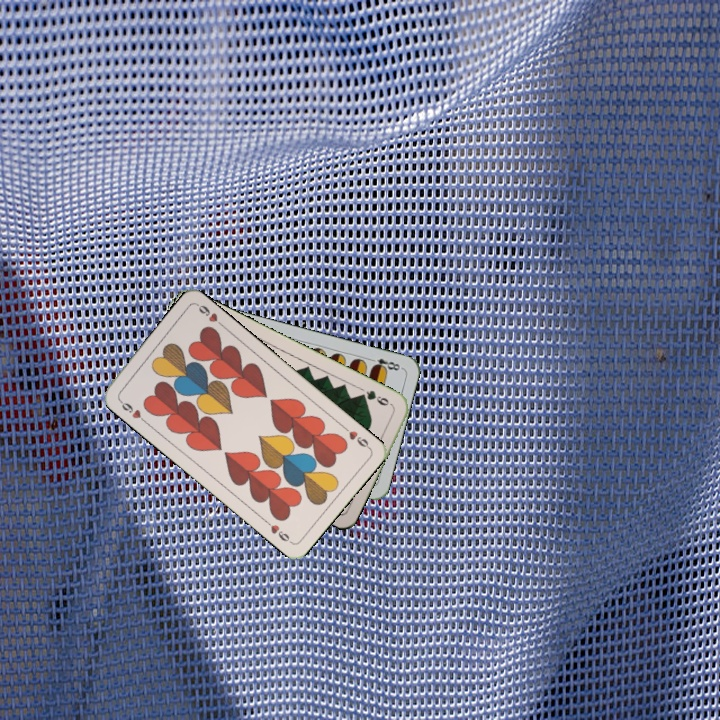E8: (365, 354, 405, 374)
G9: (355, 386, 396, 409)
H9: (338, 422, 372, 452), (115, 395, 149, 425)
